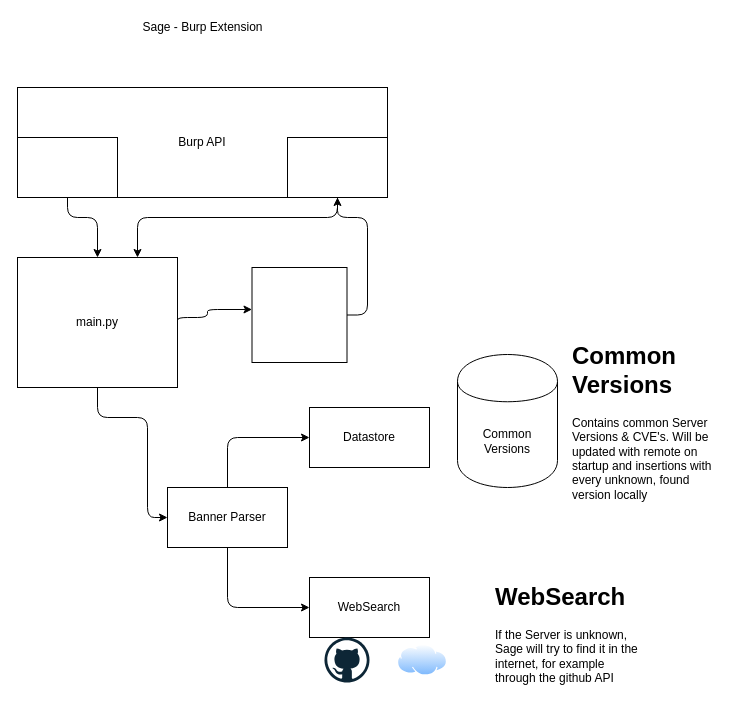
The diagram is 739 pixels wide and 714 high, and some of its shapes have lost their labels. The box of each missing label's shape, as (x1, y1, x2, y2) in pixels:
Display: (286, 136, 388, 198)
DisplayUpdater: (251, 266, 347, 362)
Extender: (16, 136, 118, 198)
